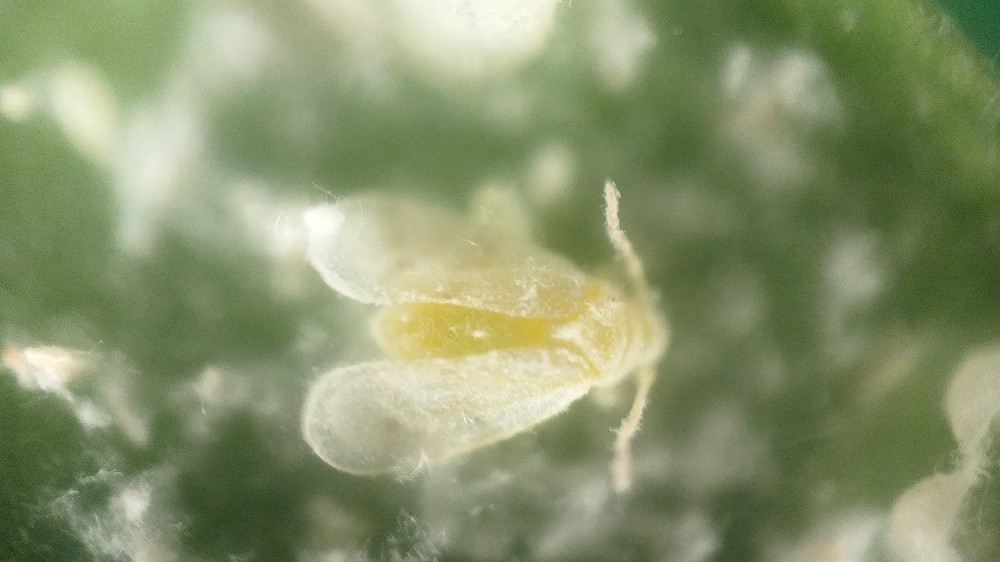Mosca Blanca: (268, 154, 712, 495)
